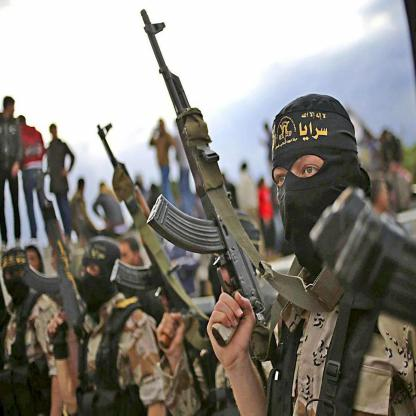rifle: (138, 6, 266, 346), (94, 120, 194, 313), (23, 169, 84, 327)
